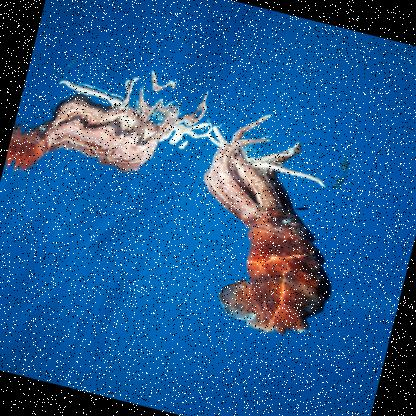colossal_squid: (156, 108, 394, 367)
